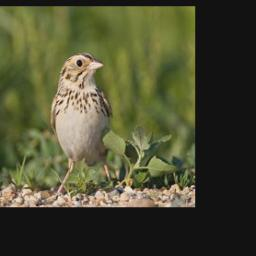Sparrow: (48, 49, 114, 201)
